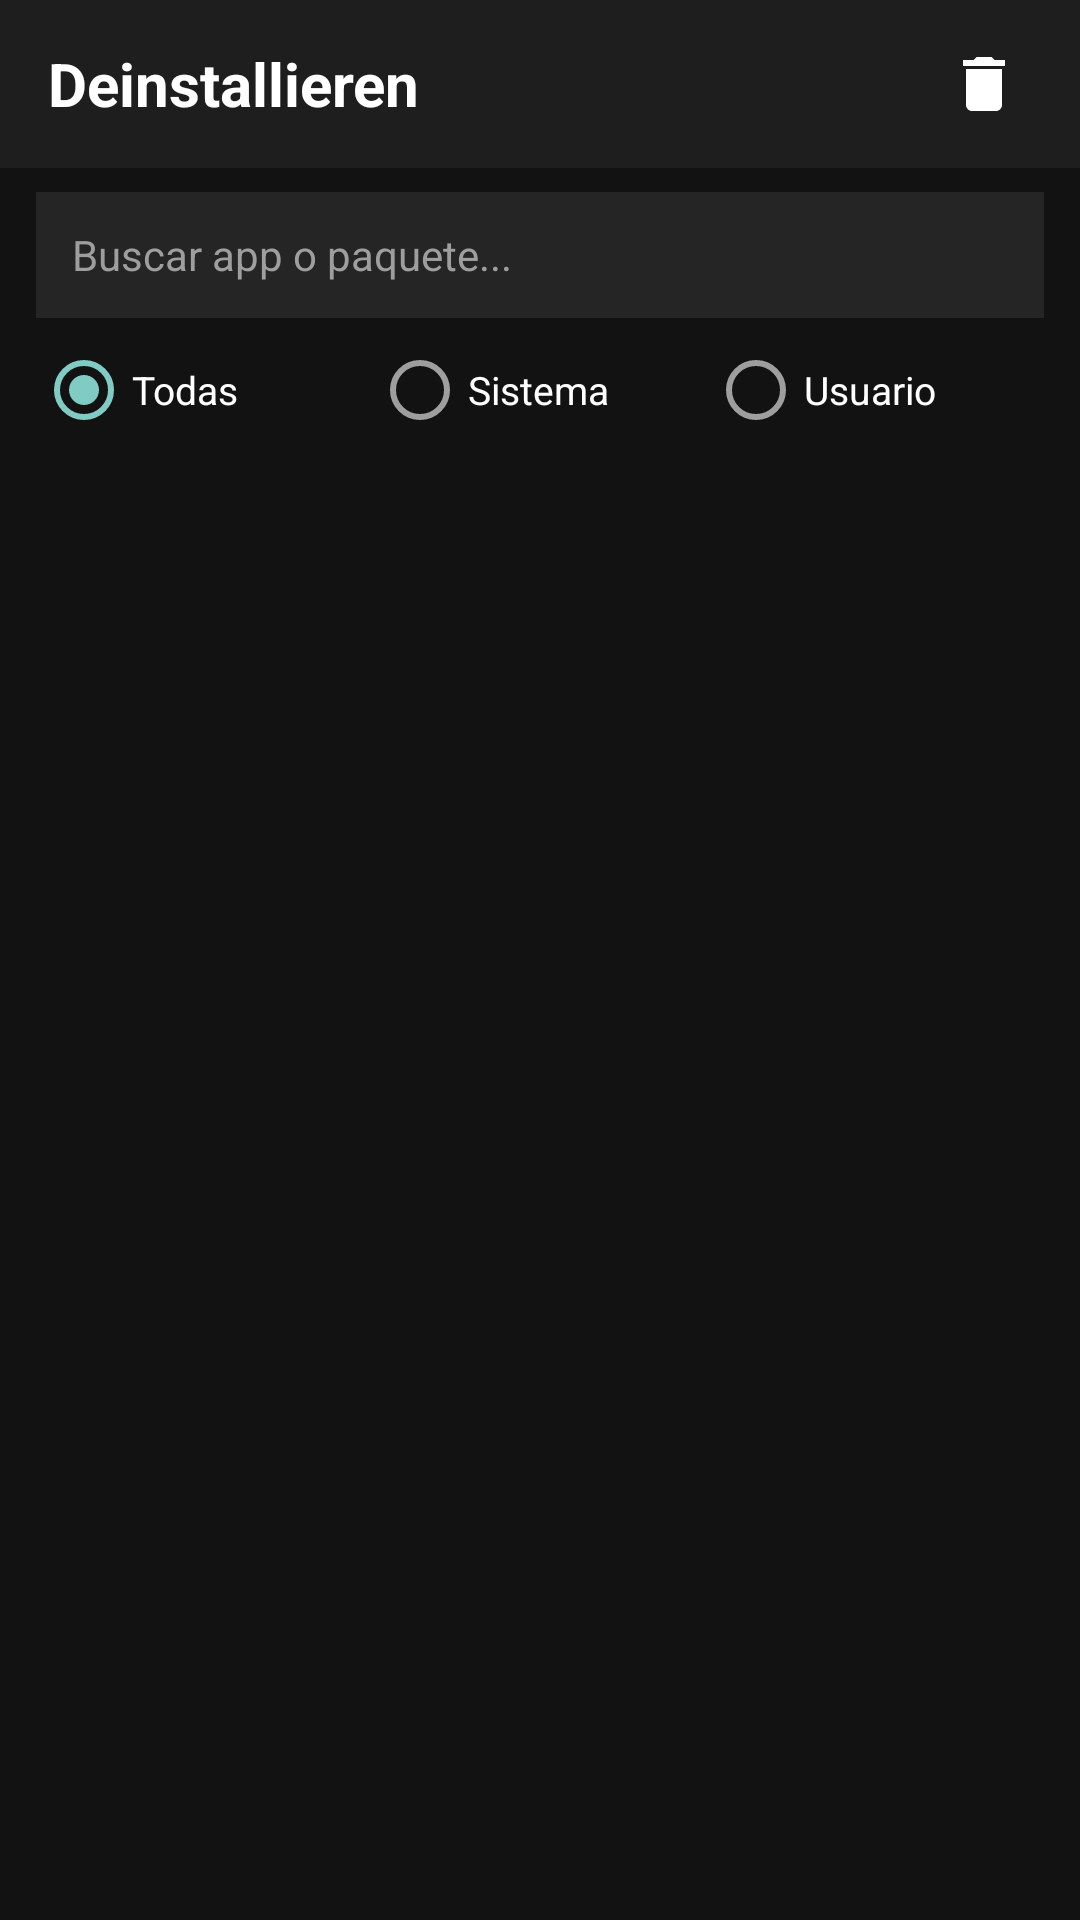

Icon bounding boxes for this 1080w x 1920h phone screenshot, format (x1, y1, x2, y2):
Papelera: (963, 57, 1005, 111)
